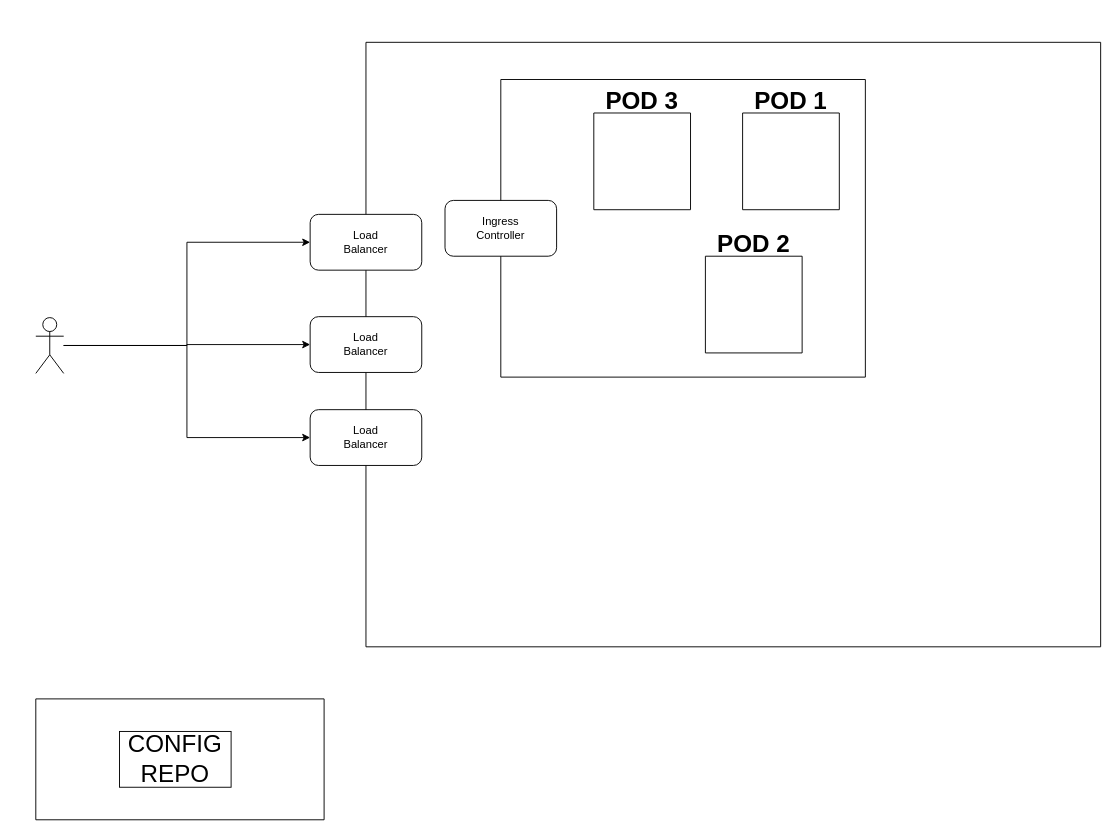
The diagram is 1117 pixels wide and 836 high, and some of its shapes have lost their labels. The box of each missing label's shape, as (x1, y1, x2, y2) in pixels:
GIT SERVER: (35, 698, 324, 820)
K8S CLUSTER: (365, 41, 1101, 647)
WEB CLIENT: (35, 317, 64, 373)
WORKER NODE 1: (500, 79, 865, 377)
